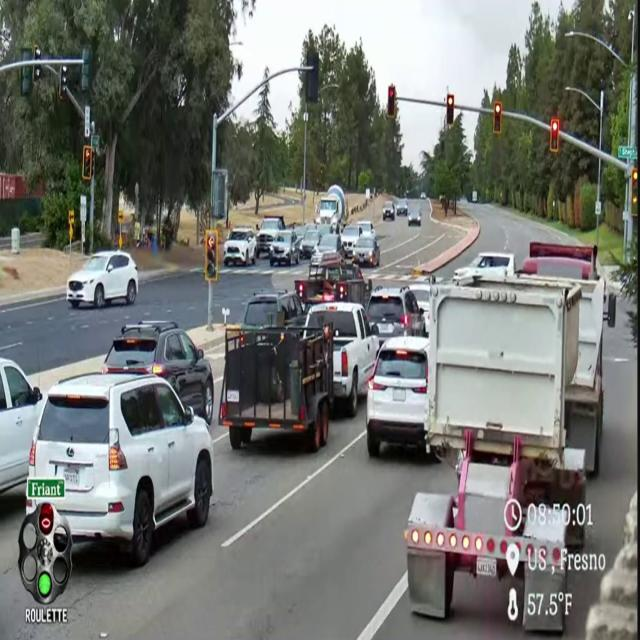car: (29, 374, 213, 566), (102, 321, 213, 424), (366, 336, 428, 456), (0, 358, 42, 493), (67, 251, 138, 308), (367, 286, 426, 344), (241, 290, 304, 327), (223, 228, 256, 265), (256, 216, 285, 258), (409, 282, 431, 334), (269, 230, 299, 266), (353, 236, 379, 267), (312, 234, 344, 259), (300, 227, 321, 258), (341, 225, 361, 257), (357, 221, 375, 237), (407, 208, 421, 226), (383, 201, 395, 221), (317, 224, 334, 236), (396, 199, 408, 215), (420, 192, 425, 199)
traffic signal: (306, 51, 319, 103), (205, 230, 218, 281), (39, 503, 54, 536), (81, 46, 91, 92), (82, 145, 93, 181), (20, 66, 32, 96), (550, 118, 559, 152), (387, 85, 396, 119), (493, 102, 502, 135), (59, 65, 67, 101), (446, 94, 454, 126), (632, 168, 637, 205), (33, 65, 41, 82)
truck: (405, 276, 588, 632), (521, 242, 616, 477), (219, 327, 333, 452), (305, 303, 378, 417), (295, 253, 372, 309), (453, 252, 515, 279), (316, 184, 347, 233), (255, 216, 285, 258)
